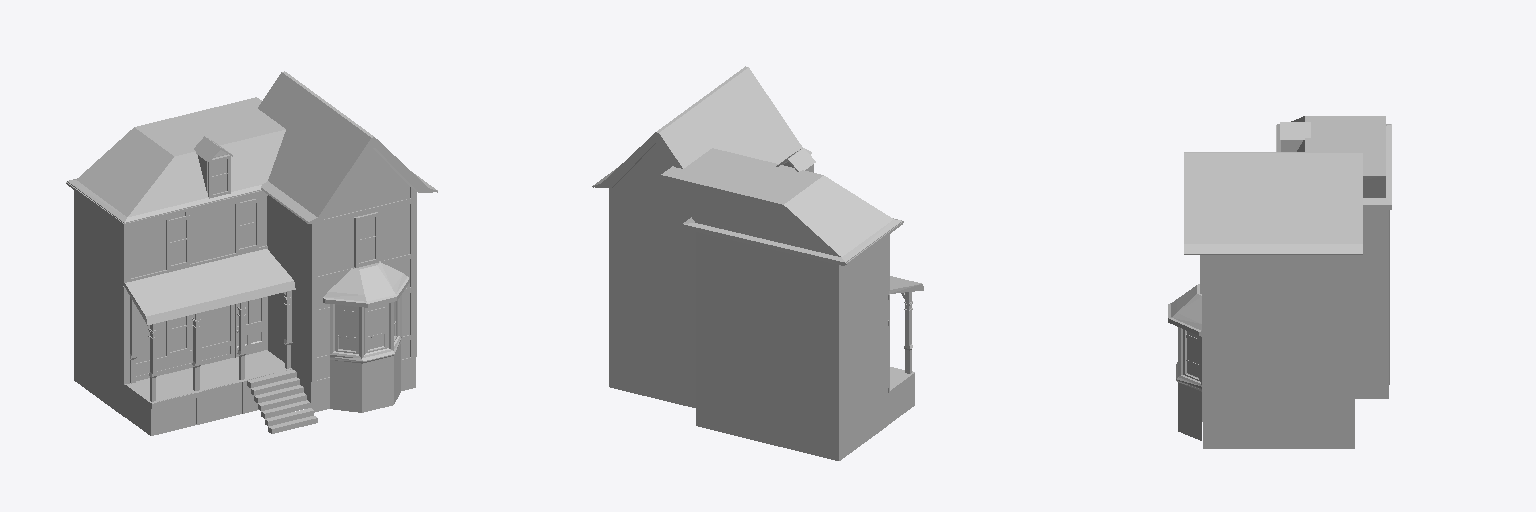
Rendered from casa1.obj.
3 renders of one model, left to right at view 1: azimuth 30°, elevation 25°; view 2: azimuth 150°, elevation 25°; view 3: azimuth 270°, elevation 25°, orthographic.
Visible parts, largest first — view 1: pCube1, pCube66, pCube2, pCube47, pCube58, pCube5, pCube6, pCube87, pCube59, polySurface11, polySurface9, polySurface8 (+6 smaller); view 2: pCube1, pCube2, pCube66, pCube47, pCube6, pCube11 polySurface12; view 3: pCube2, pCube47, pCube1, pCube66, pCube58, pCube59, pCube68.
Part boxes in pixels (bbox=[...]): pCube1: bbox=[74, 190, 266, 416]; pCube66: bbox=[66, 97, 285, 226]; pCube2: bbox=[267, 148, 415, 412]; pCube47: bbox=[258, 71, 437, 223]; pCube58: bbox=[330, 295, 401, 412]; pCube5: bbox=[124, 249, 295, 325]; pCube6: bbox=[124, 350, 291, 435]; pCube87: bbox=[247, 370, 317, 433]; pCube59: bbox=[323, 262, 409, 307]; polySurface11: bbox=[354, 212, 378, 267]; polySurface9: bbox=[235, 199, 258, 252]; polySurface8: bbox=[166, 215, 189, 269]; pCube1: bbox=[696, 232, 888, 460]; pCube2: bbox=[609, 143, 695, 407]; pCube66: bbox=[661, 148, 903, 265]; pCube47: bbox=[592, 66, 811, 188]; pCube6: bbox=[889, 367, 914, 423]; pCube11 polySurface12: bbox=[904, 292, 912, 373]; pCube2: bbox=[1203, 255, 1354, 448]; pCube47: bbox=[1184, 152, 1362, 254]; pCube1: bbox=[1355, 209, 1389, 398]; pCube66: bbox=[1276, 116, 1391, 209]; pCube58: bbox=[1176, 327, 1201, 440]; pCube59: bbox=[1168, 284, 1201, 336]; pCube68: bbox=[1280, 122, 1310, 139].
Bounding box in the file's own units: 17.29 × 16.85 × 12.44.